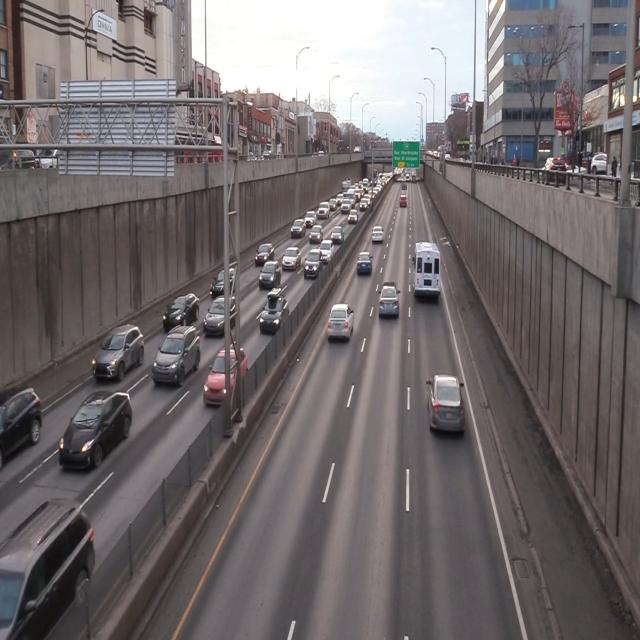Car: (59, 397, 132, 471), (91, 322, 146, 383), (202, 346, 252, 411), (154, 325, 202, 390), (426, 374, 466, 434), (410, 237, 444, 301), (158, 291, 203, 331), (258, 287, 289, 335), (206, 291, 237, 336), (327, 299, 355, 341), (378, 281, 402, 319)
